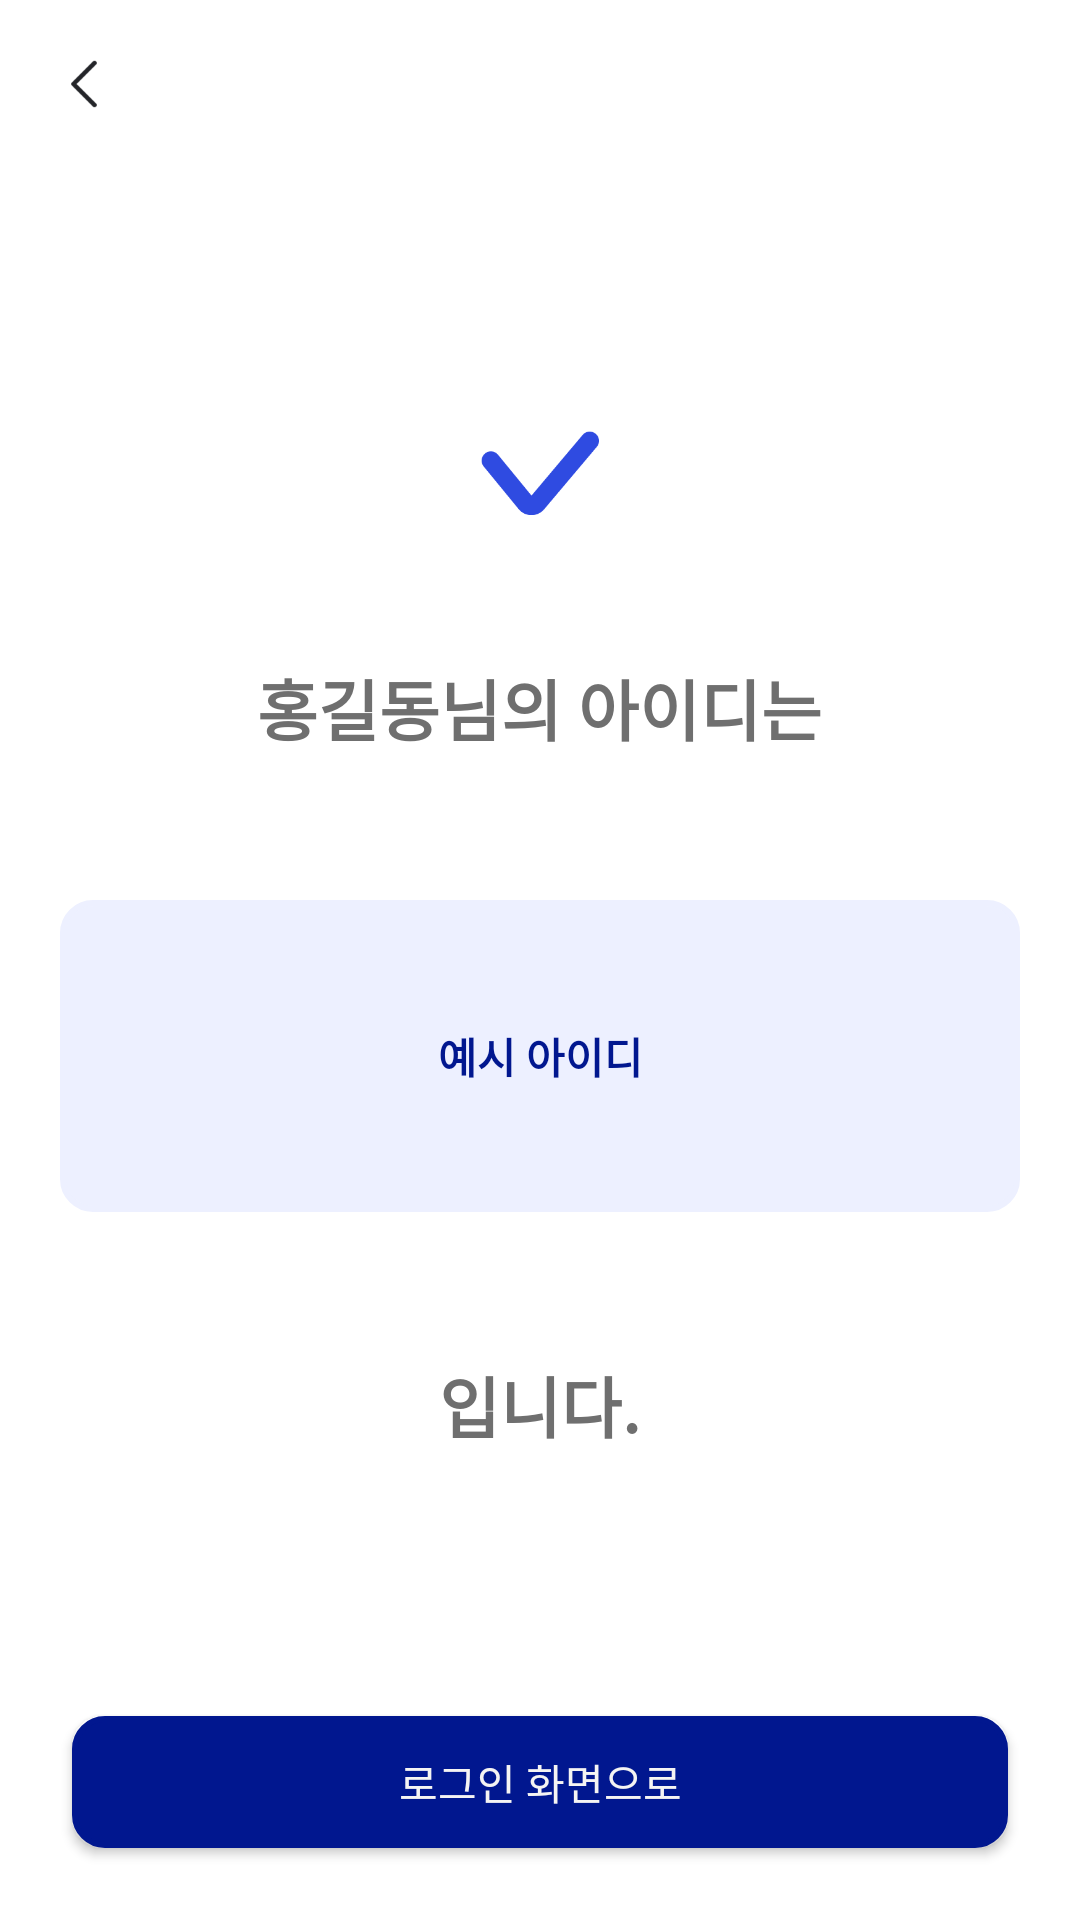

Icon bounding boxes for this 1080px×1920px phone screenshot, format (x1, y1, x2, y2):
arrow: (71, 60, 97, 108)
check: (481, 431, 599, 515)
